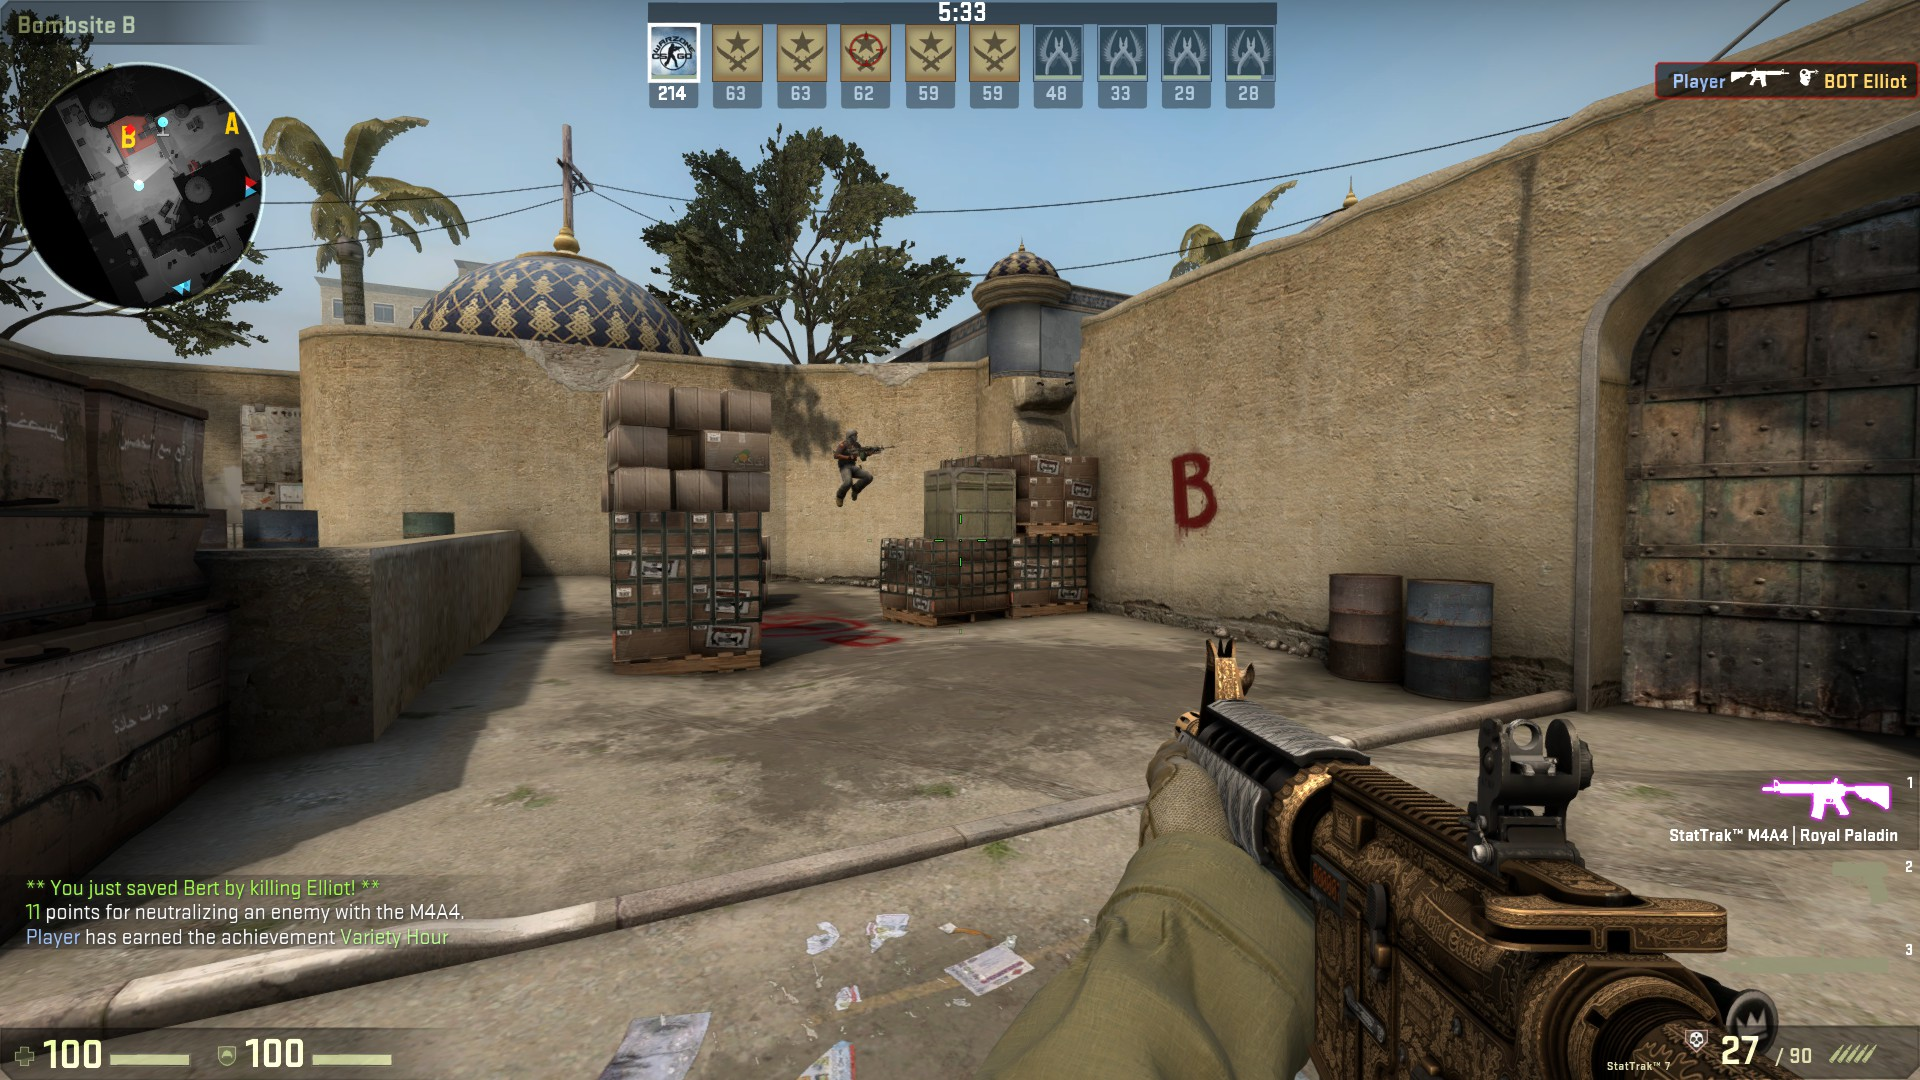t: (835, 430, 868, 506)
th: (844, 429, 860, 444)
